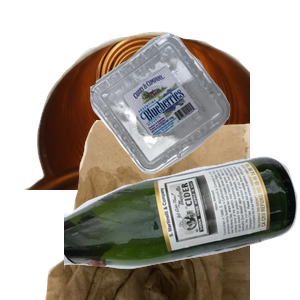glass: (64, 154, 300, 300)
metal: (21, 29, 261, 209)
plastic: (88, 31, 300, 198)
trash: (43, 120, 283, 300)
